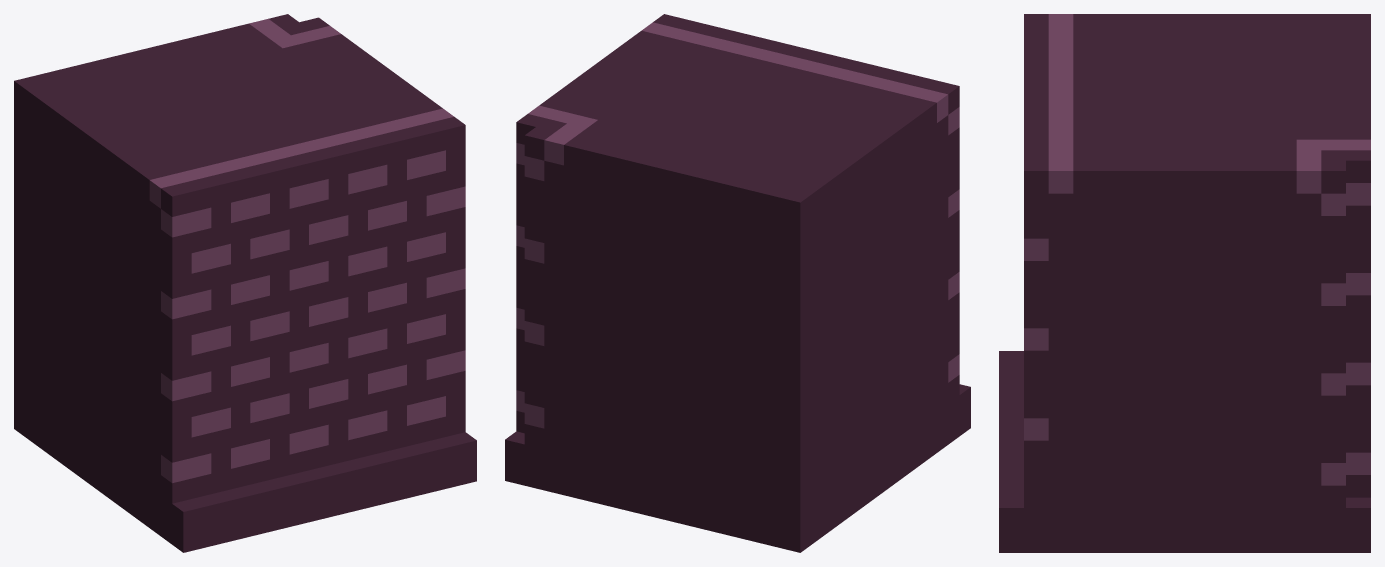
Rendered from dungeon_c_a_outer_wall_segment_c_flipped.obj.
The picture shows the model from 3 angles, left to right: view 1: azimuth 30°, elevation 25°; view 2: azimuth 150°, elevation 25°; view 3: azimuth 270°, elevation 25°; orthographic projection. The views are drawn at different scales.
Size of the model in its own units: 1.5 by 1.7 by 1.5.
1 material, 1 textured.
